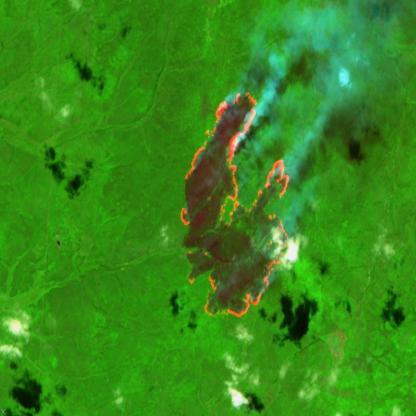fire: (175, 84, 290, 330)
